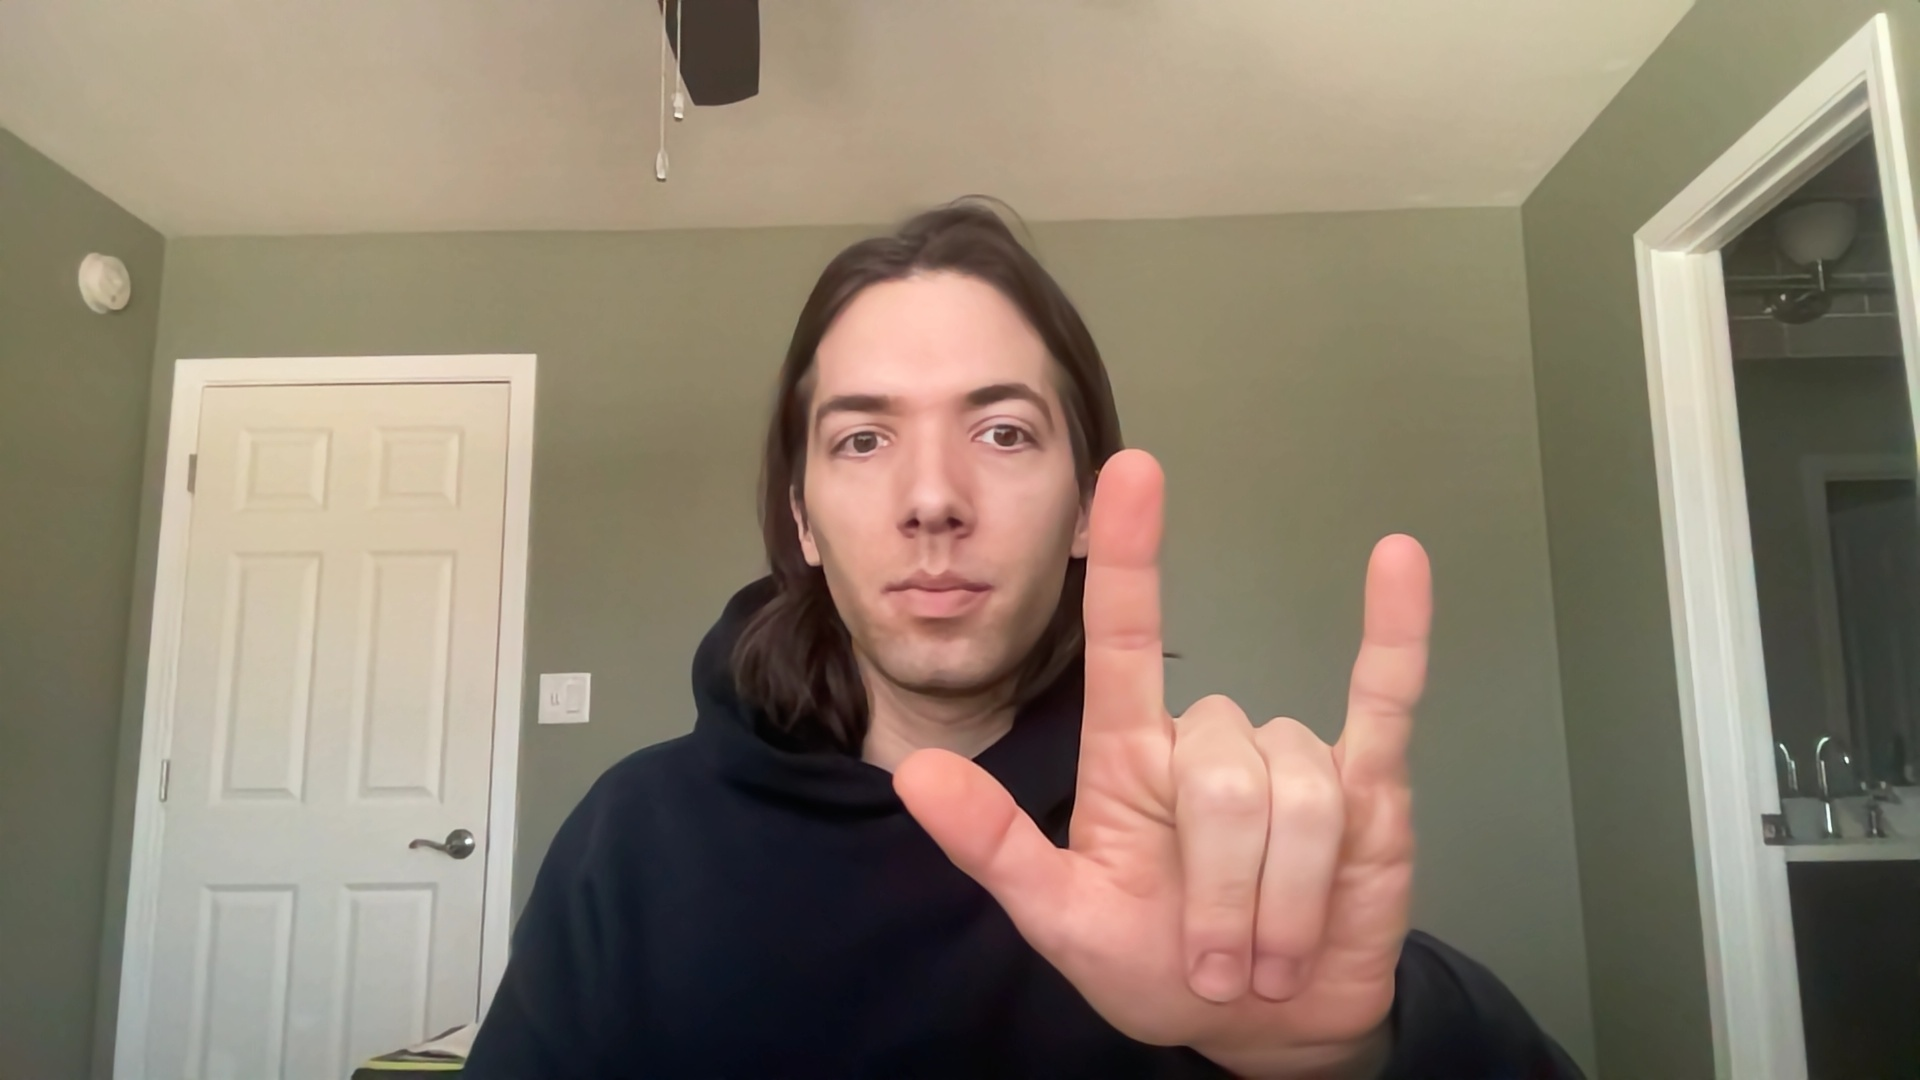I Love You: (886, 444, 1451, 1073)
